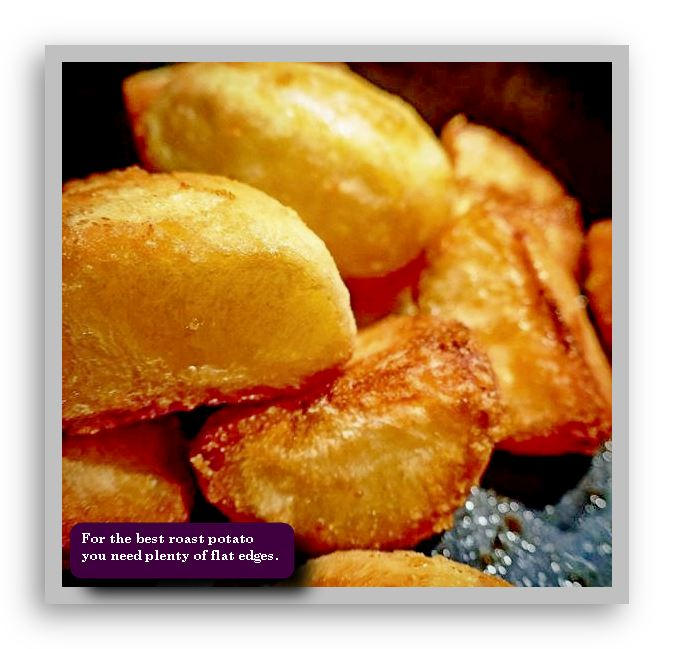boiled potatoes: (129, 71, 478, 283), (76, 182, 358, 403), (220, 345, 490, 538)
